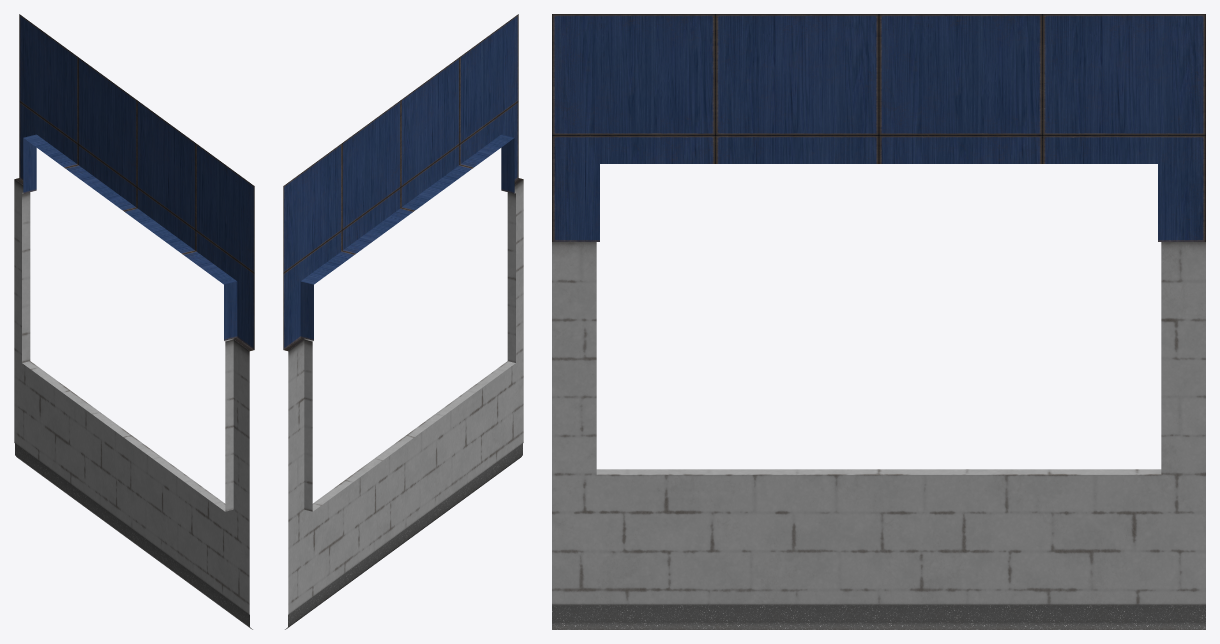
The model's file is Cafateria 4M Window A.fbx.
3 renders of one model, left to right at view 1: azimuth 30°, elevation 25°; view 2: azimuth 150°, elevation 25°; view 3: azimuth 270°, elevation 25°, orthographic. The views are drawn at different scales.
Parts seen in each view (by area): view 1: Cafateria_4M_Window_A; view 2: Cafateria_4M_Window_A; view 3: Cafateria_4M_Window_A.
Part boxes in pixels (bbox=[...]): Cafateria_4M_Window_A: bbox=[14, 14, 254, 629]; Cafateria_4M_Window_A: bbox=[283, 14, 523, 629]; Cafateria_4M_Window_A: bbox=[552, 14, 1205, 629].
Bounding box in the file's own units: 13.18 × 416 × 400.
